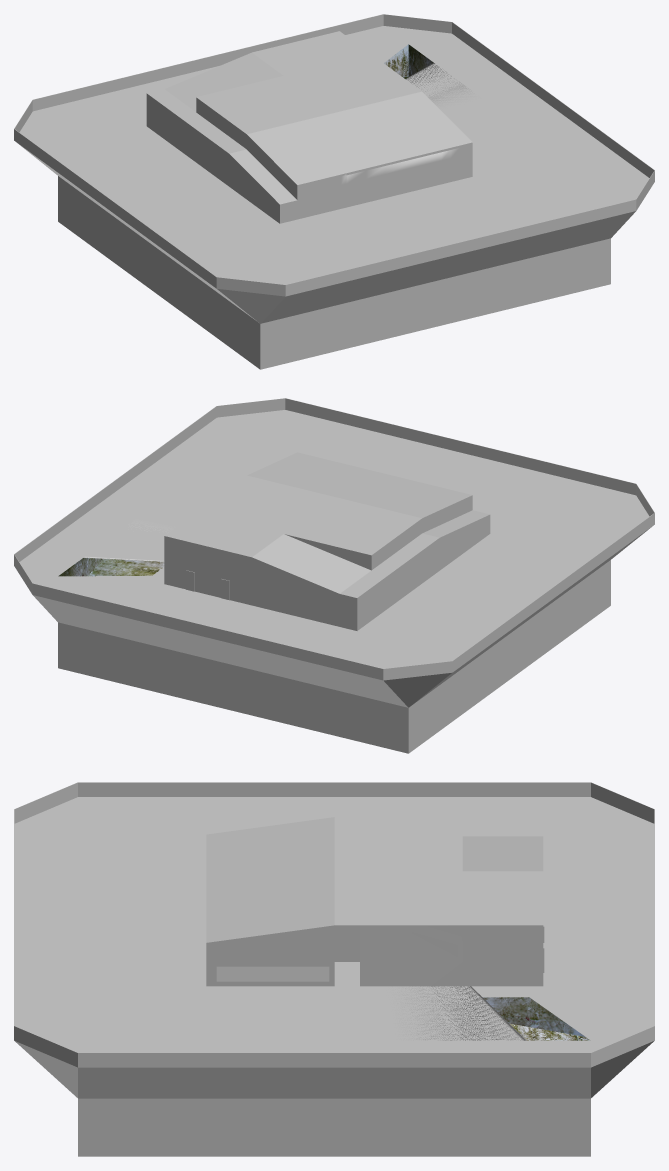
File: Moonfall2.fbx
3 renders of one model, top to bottom at view 1: azimuth 30°, elevation 25°; view 2: azimuth 150°, elevation 25°; view 3: azimuth 270°, elevation 25°, orthographic. The views are drawn at different scales.
Parts seen in each view (by area): view 1: Building, Base, ElevatorCover, Fence4_Cube.004, Fence2_Cube.015, Fence1_Cube.007, Fence3_Cube.006; view 2: Building, Base, ElevatorCover, Fence2_Cube.015, Fence4_Cube.004, Fence3_Cube.006, Fence1_Cube.007; view 3: Building, Base, Fence3_Cube.006, Fence1_Cube.007, ElevatorCover, Glass, Fence2_Cube.015, Fence4_Cube.004.
Part boxes in pixels (x1=…): Building: x1=17, y1=26, x2=649, y2=323; Base: x1=58, y1=176, x2=610, y2=369; ElevatorCover: x1=146, y1=52, x2=297, y2=223; Fence4_Cube.004: x1=216, y1=199, x2=636, y2=296; Fence2_Cube.015: x1=32, y1=14, x2=451, y2=111; Fence1_Cube.007: x1=452, y1=22, x2=654, y2=210; Fence3_Cube.006: x1=14, y1=100, x2=216, y2=288; Building: x1=19, y1=410, x2=651, y2=707; Base: x1=58, y1=560, x2=610, y2=753; ElevatorCover: x1=252, y1=510, x2=490, y2=630; Fence2_Cube.015: x1=14, y1=554, x2=383, y2=680; Fence4_Cube.004: x1=285, y1=398, x2=654, y2=516; Fence3_Cube.006: x1=383, y1=513, x2=654, y2=680; Fence1_Cube.007: x1=14, y1=398, x2=285, y2=561; Building: x1=14, y1=797, x2=654, y2=1098; Base: x1=78, y1=1098, x2=590, y2=1156; Fence3_Cube.006: x1=78, y1=782, x2=654, y2=823; Fence1_Cube.007: x1=14, y1=1026, x2=590, y2=1067; ElevatorCover: x1=462, y1=825, x2=543, y2=871; Glass: x1=216, y1=966, x2=329, y2=981; Fence2_Cube.015: x1=591, y1=809, x2=654, y2=1067; Fence4_Cube.004: x1=14, y1=782, x2=77, y2=1025.
Bounding box in the file's own units: 5000 × 1525 × 5000.
